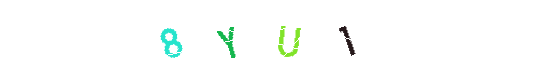1: (307, 0, 387, 80)
8: (135, 0, 215, 80)
U: (230, 0, 310, 80)
Y: (228, 0, 308, 80)
